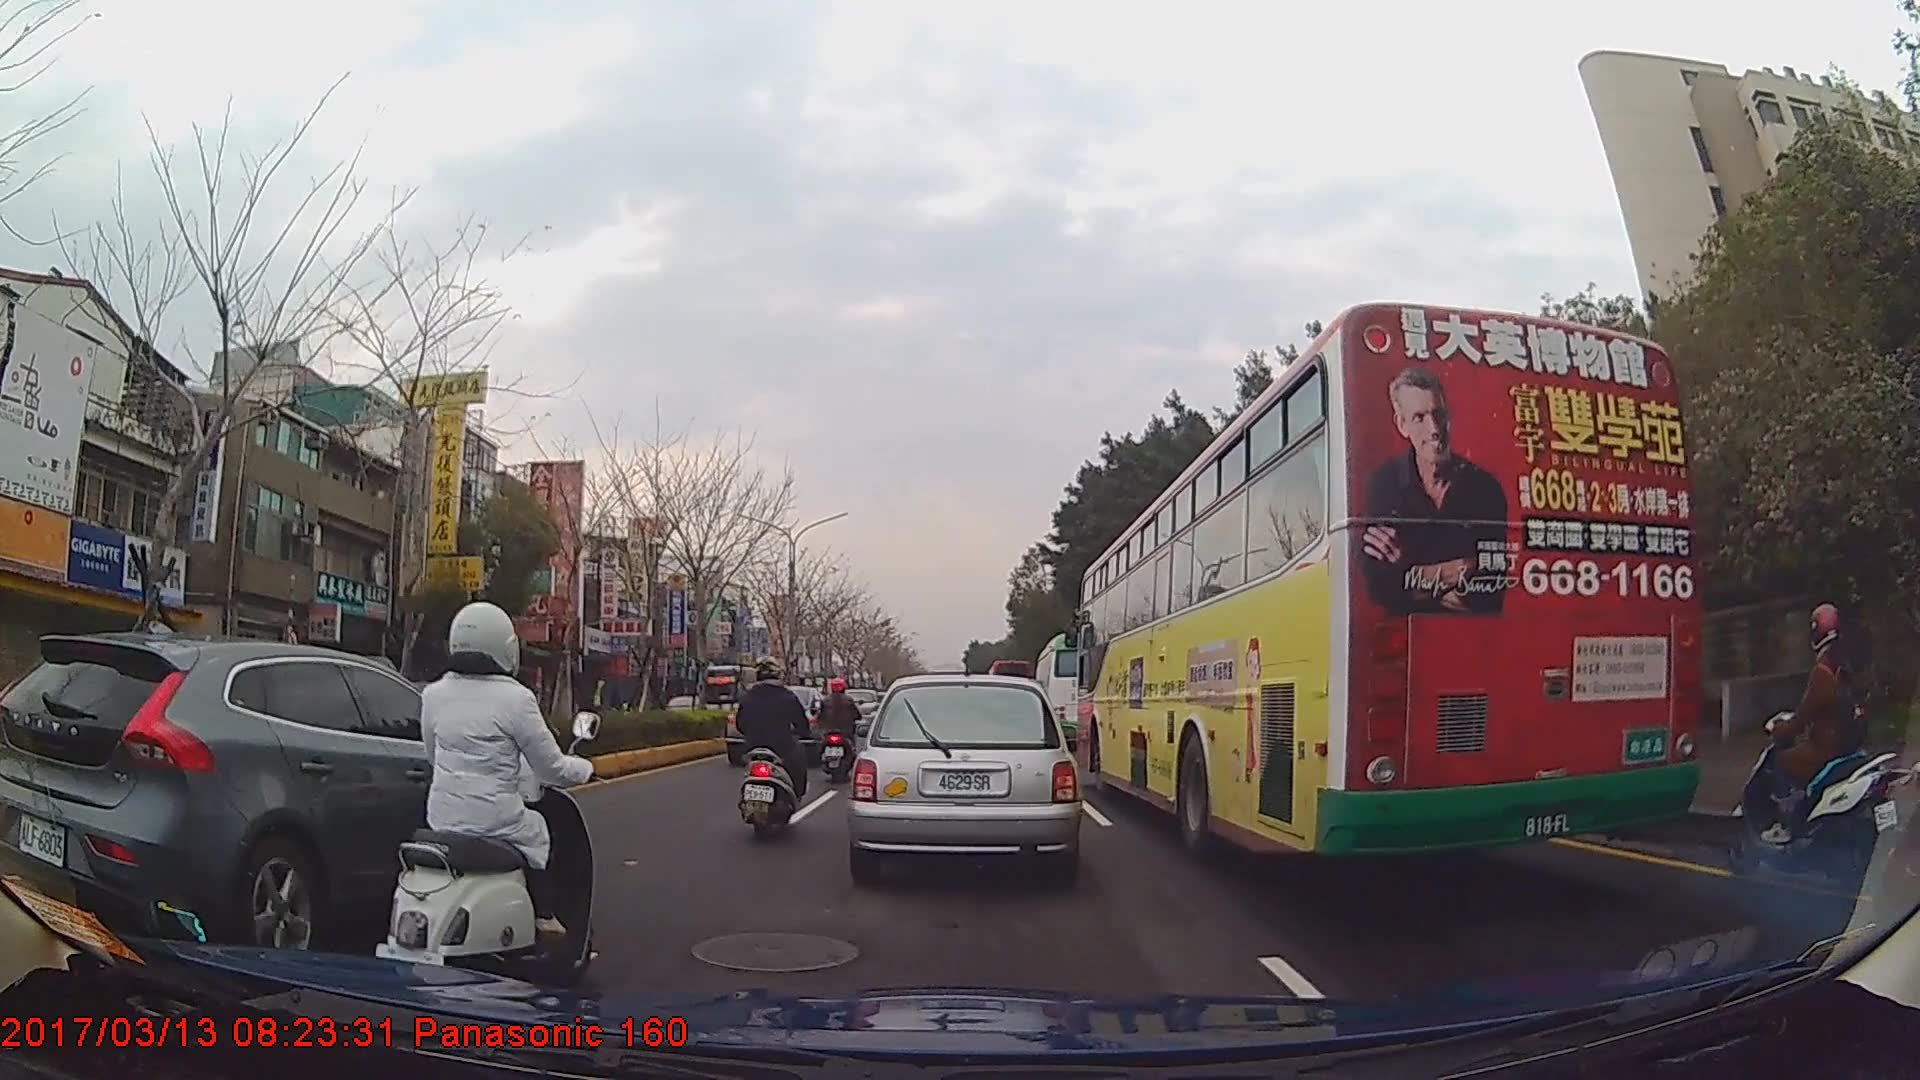rider: (376, 595, 603, 991), (1713, 601, 1902, 880), (733, 657, 811, 842), (816, 678, 862, 782)
vehicle: (1074, 300, 1702, 862), (0, 633, 561, 963), (849, 672, 1079, 882), (1030, 629, 1120, 748), (719, 685, 824, 767), (697, 662, 763, 728)
